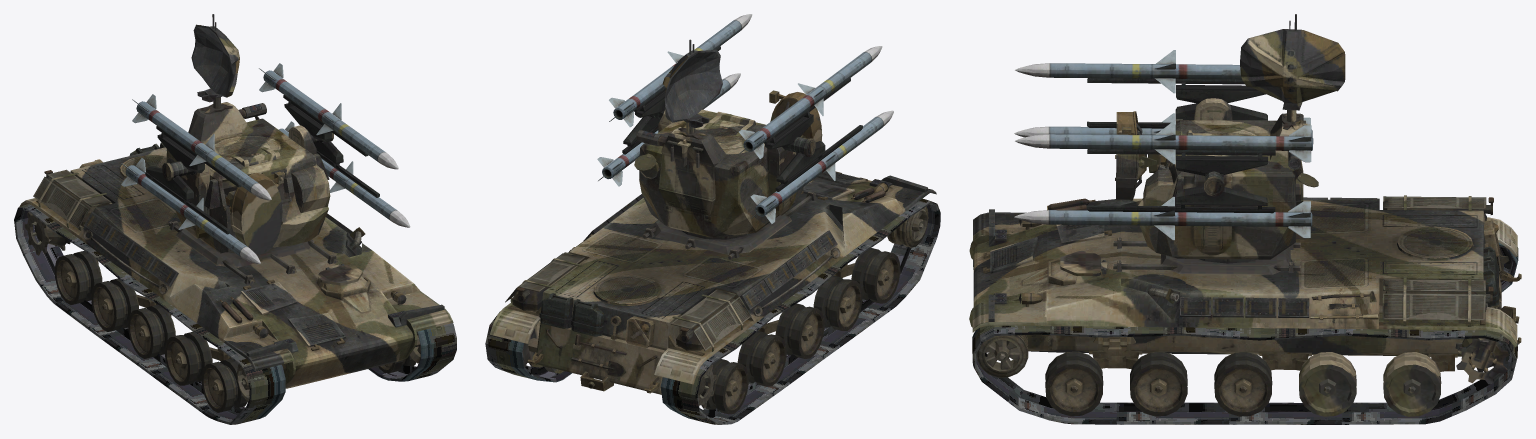
Rendered from ARE AMX-30 'Mosquito AA'.obj.
The picture shows the model from 3 angles, left to right: view 1: azimuth 30°, elevation 25°; view 2: azimuth 150°, elevation 25°; view 3: azimuth 270°, elevation 25°; orthographic projection. The views are drawn at different scales.
Parts seen in each view (by area): view 1: DrawCall_1654, DrawCall_1678, DrawCall_1764, DrawCall_1679, DrawCall_1680, DrawCall_1690, DrawCall_1689, DrawCall_1687, DrawCall_1945, DrawCall_1677, DrawCall_1660, DrawCall_1662 (+6 smaller); view 2: DrawCall_1654, DrawCall_1678, DrawCall_1764, DrawCall_1679, DrawCall_1680, DrawCall_1689, DrawCall_1677, DrawCall_1687, DrawCall_1664, DrawCall_1662, DrawCall_1661, DrawCall_1663 (+6 smaller); view 3: DrawCall_1654, DrawCall_1945, DrawCall_1678, DrawCall_1679, DrawCall_1680, DrawCall_1690, DrawCall_1688, DrawCall_1689, DrawCall_1669, DrawCall_1668, DrawCall_1666, DrawCall_1665 (+6 smaller).
Boxes of the visible parts, x1=… form: DrawCall_1654: x1=19, y1=142, x2=453, y2=388; DrawCall_1678: x1=166, y1=102, x2=330, y2=254; DrawCall_1764: x1=14, y1=204, x2=285, y2=424; DrawCall_1679: x1=145, y1=95, x2=379, y2=234; DrawCall_1680: x1=191, y1=14, x2=239, y2=108; DrawCall_1690: x1=259, y1=63, x2=398, y2=169; DrawCall_1689: x1=132, y1=94, x2=271, y2=200; DrawCall_1687: x1=121, y1=158, x2=260, y2=263; DrawCall_1945: x1=368, y1=323, x2=456, y2=381; DrawCall_1677: x1=169, y1=221, x2=337, y2=284; DrawCall_1660: x1=54, y1=251, x2=102, y2=304; DrawCall_1662: x1=128, y1=304, x2=175, y2=358; DrawCall_1654: x1=490, y1=170, x2=936, y2=394; DrawCall_1678: x1=634, y1=90, x2=822, y2=239; DrawCall_1764: x1=660, y1=198, x2=940, y2=424; DrawCall_1679: x1=622, y1=46, x2=862, y2=191; DrawCall_1680: x1=663, y1=39, x2=722, y2=133; DrawCall_1689: x1=739, y1=46, x2=882, y2=159; DrawCall_1677: x1=642, y1=191, x2=816, y2=259; DrawCall_1687: x1=750, y1=110, x2=893, y2=223; DrawCall_1664: x1=851, y1=248, x2=900, y2=303; DrawCall_1662: x1=775, y1=303, x2=824, y2=358; DrawCall_1661: x1=737, y1=331, x2=786, y2=386; DrawCall_1663: x1=813, y1=275, x2=862, y2=330; DrawCall_1654: x1=969, y1=195, x2=1521, y2=371; DrawCall_1945: x1=972, y1=325, x2=1517, y2=424; DrawCall_1678: x1=1115, y1=98, x2=1318, y2=263; DrawCall_1679: x1=1086, y1=78, x2=1275, y2=213; DrawCall_1680: x1=1240, y1=14, x2=1345, y2=122; DrawCall_1690: x1=1015, y1=120, x2=1313, y2=164; DrawCall_1688: x1=1014, y1=196, x2=1312, y2=240; DrawCall_1689: x1=1015, y1=50, x2=1241, y2=93; DrawCall_1669: x1=1045, y1=351, x2=1103, y2=416; DrawCall_1668: x1=1130, y1=351, x2=1187, y2=416; DrawCall_1666: x1=1299, y1=352, x2=1356, y2=416; DrawCall_1665: x1=1383, y1=352, x2=1441, y2=416.
Bounding box in the file's own units: 3.36 × 4.78 × 6.76.
